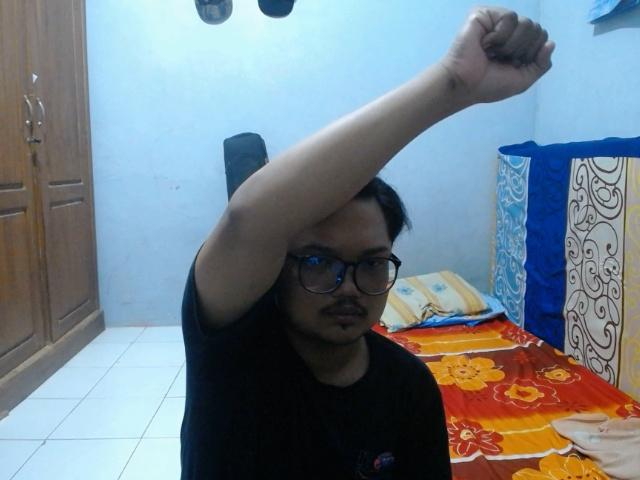Grab: (439, 3, 559, 107)
